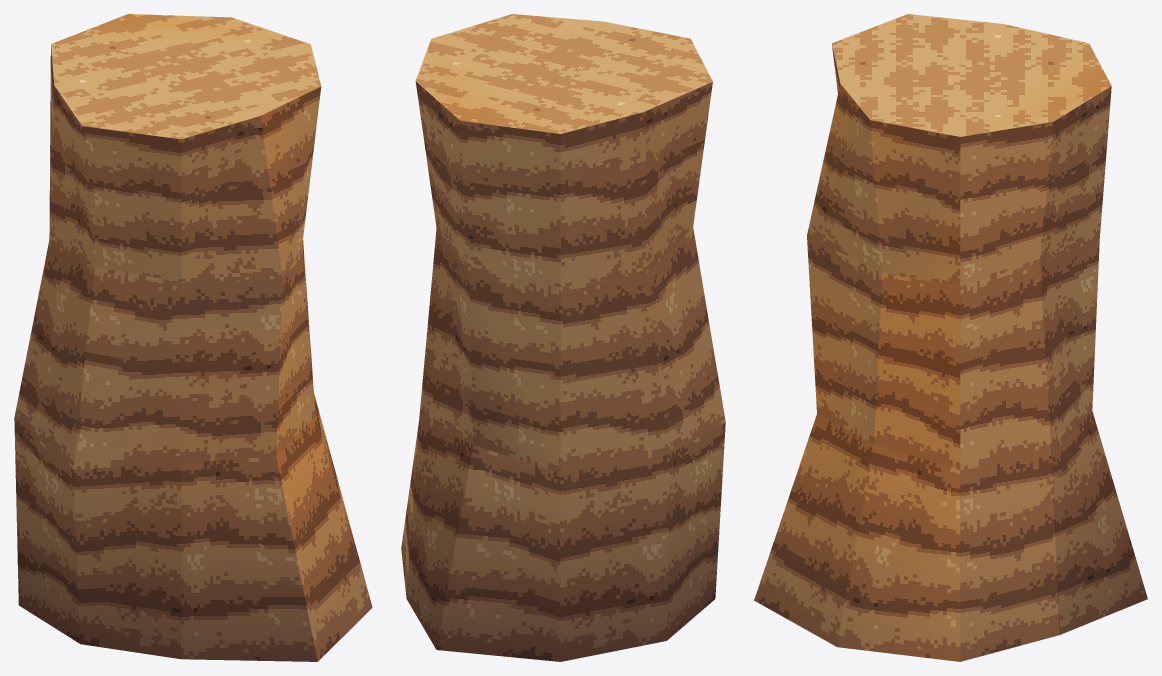
The model's file is land.cliff__pillar.glb.
3 views of the same model, side by side, from view 1: azimuth 30°, elevation 25°; view 2: azimuth 150°, elevation 25°; view 3: azimuth 270°, elevation 25° (orthographic).
Parts seen in each view (by area): view 1: kit_butte; view 2: kit_butte; view 3: kit_butte.
Part boxes in pixels (x1=…): kit_butte: x1=14, y1=14, x2=372, y2=661; kit_butte: x1=401, y1=14, x2=725, y2=661; kit_butte: x1=754, y1=14, x2=1147, y2=661.
Bounding box in the file's own units: 5.42 × 9 × 6.29.
2 materials, 2 textured.
